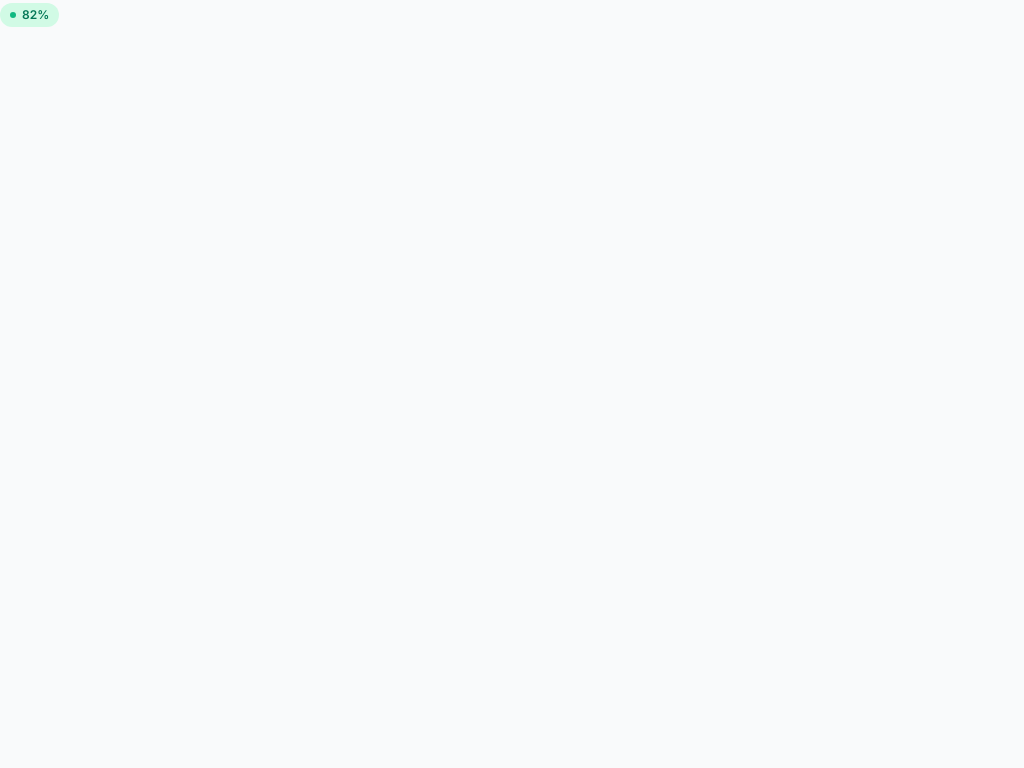
Test: HealthBadge › bar colors reflect amber and red ranges, not just green
Click the button with test id "prog-health": coordinates (30, 15) [0,3,59,27]
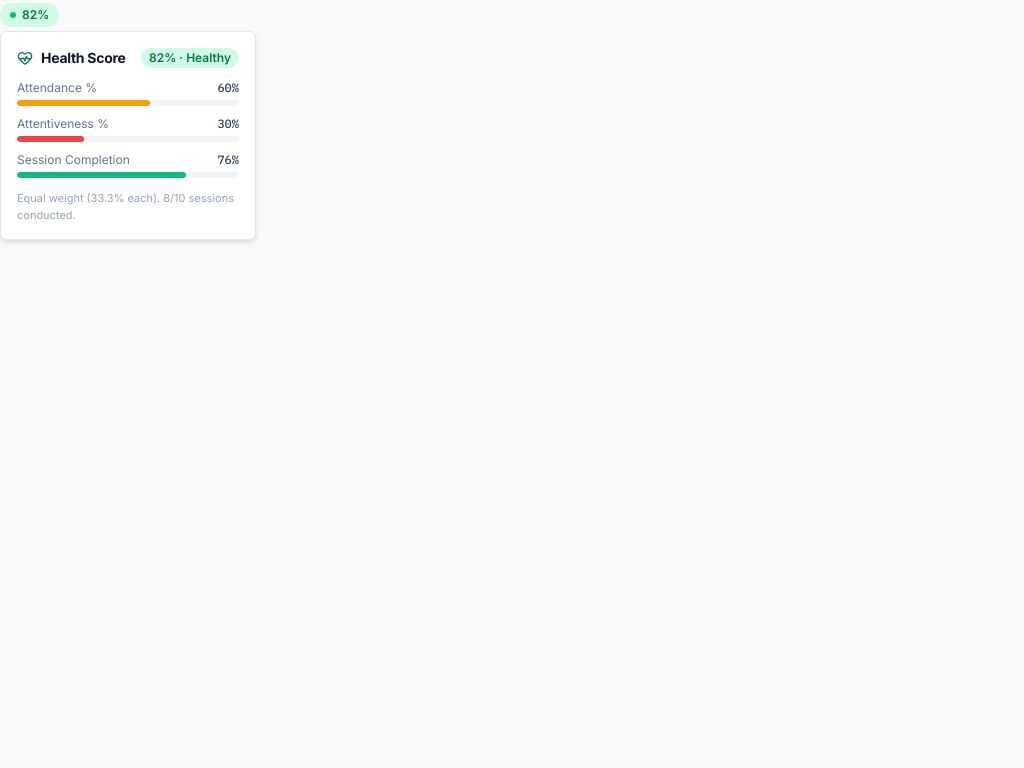
Result: the text "Health Score" is shown at [41,48,126,68]
